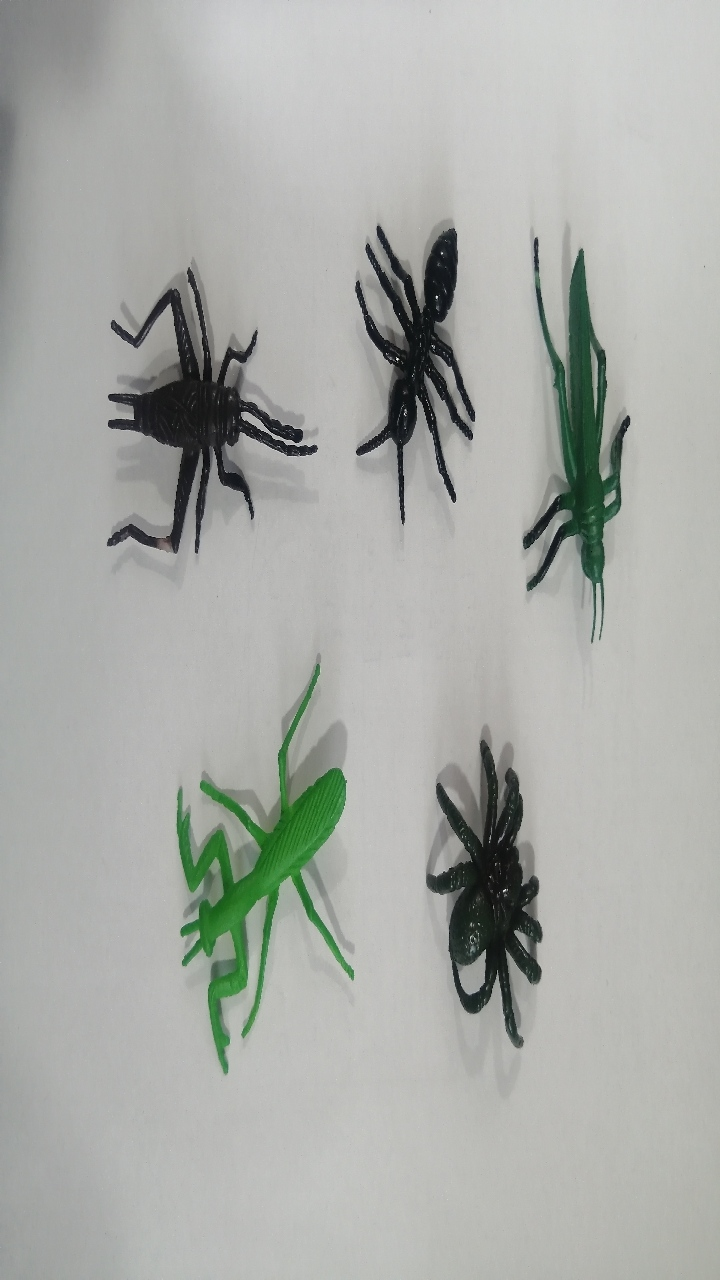intruso: (114, 654, 394, 1072), (57, 248, 318, 623), (495, 205, 637, 648), (326, 175, 491, 540), (401, 694, 560, 1055)
